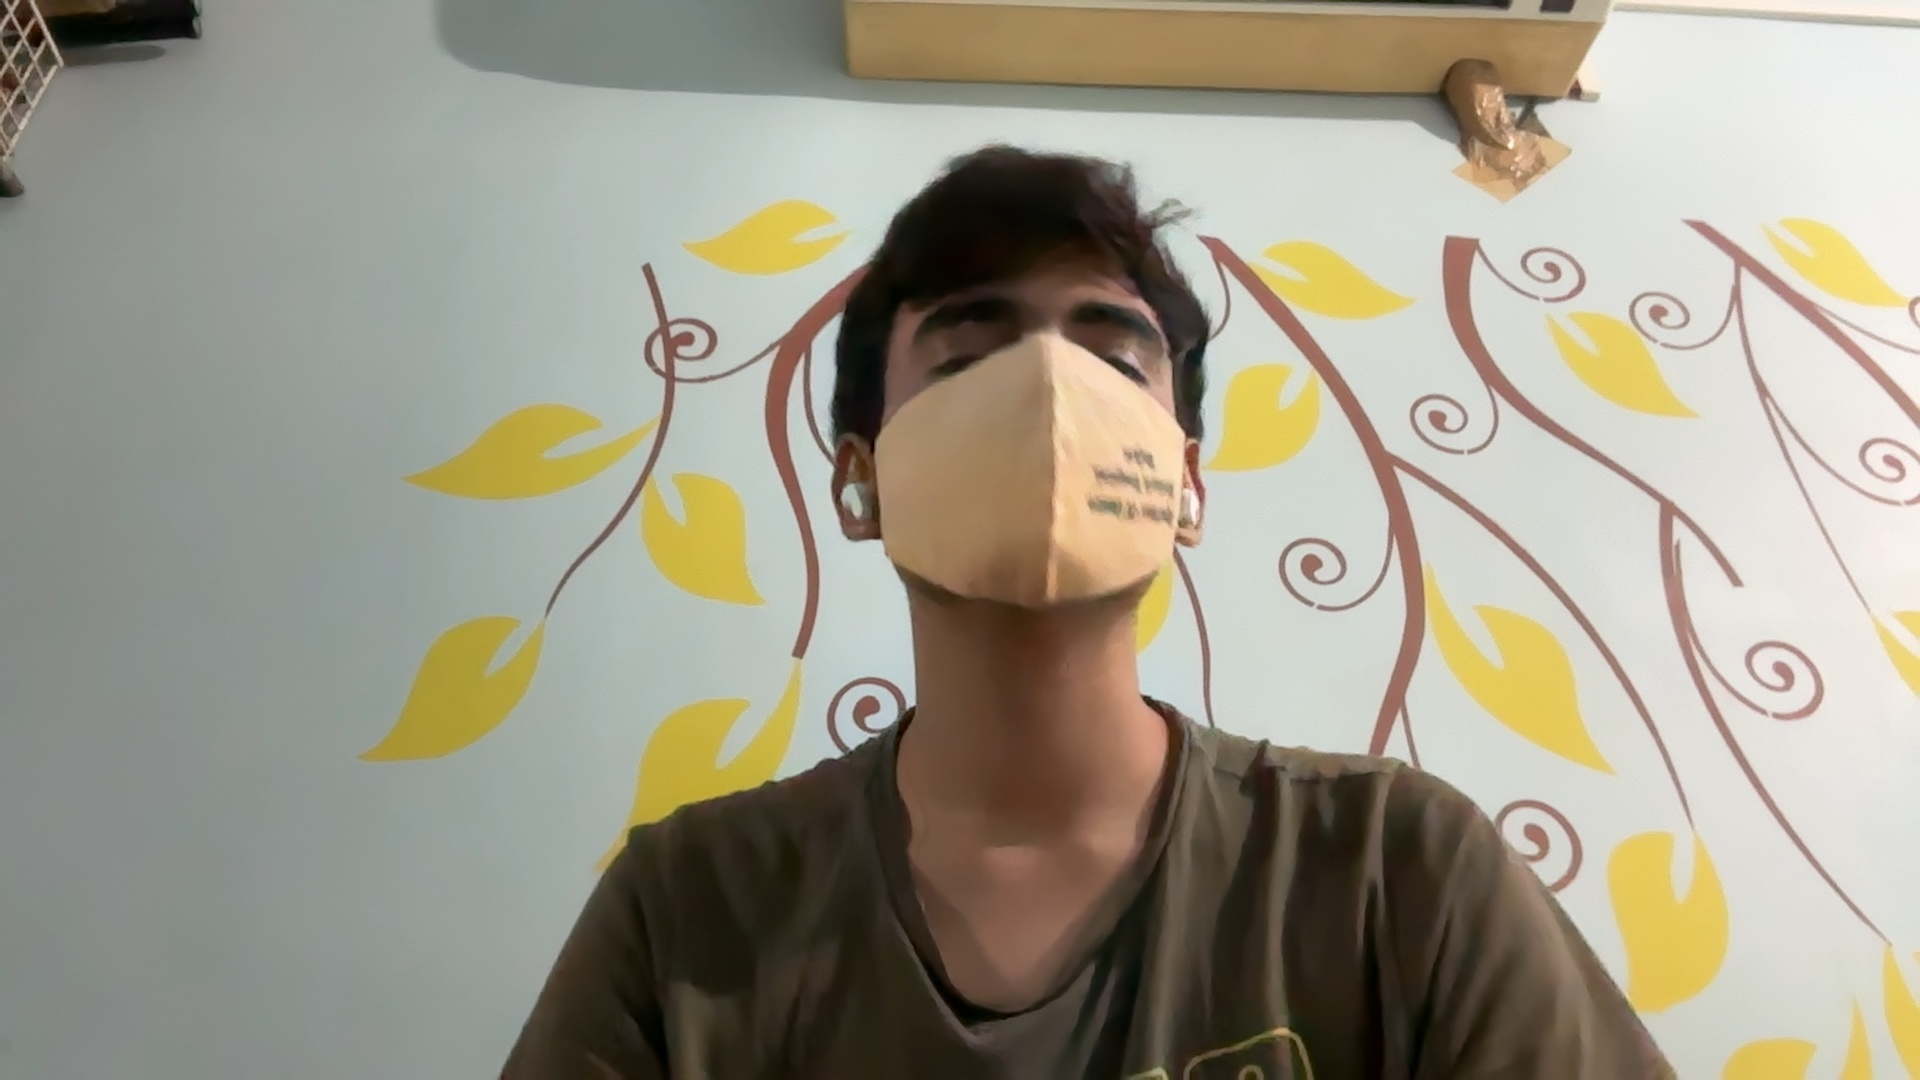Mask: (870, 367, 1210, 634)
